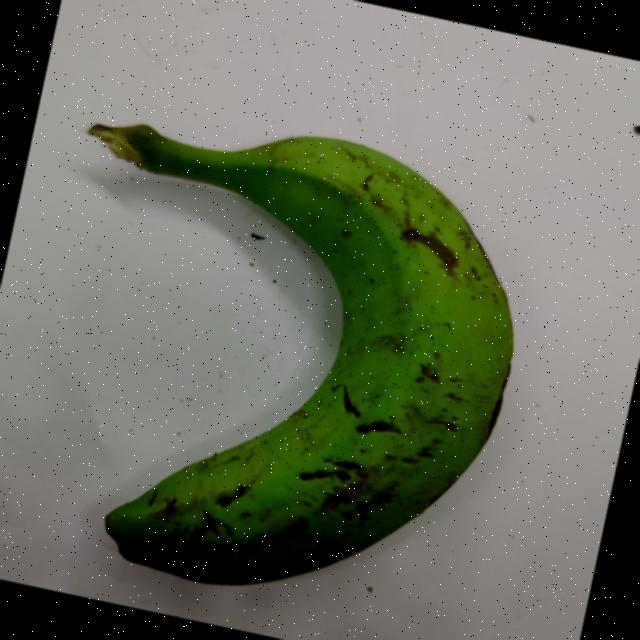Raw: (0, 32, 609, 640)
